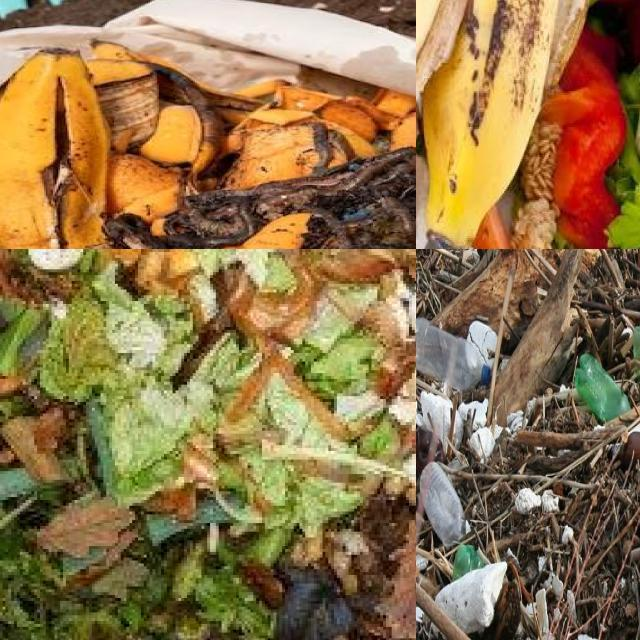Garbage: (0, 249, 416, 640), (416, 249, 640, 640), (0, 49, 416, 249), (416, 0, 640, 249)
Plastic_bottle: (416, 317, 484, 391), (420, 462, 467, 546), (575, 353, 631, 422), (634, 325, 640, 360)
Thermocol: (436, 562, 505, 635)
